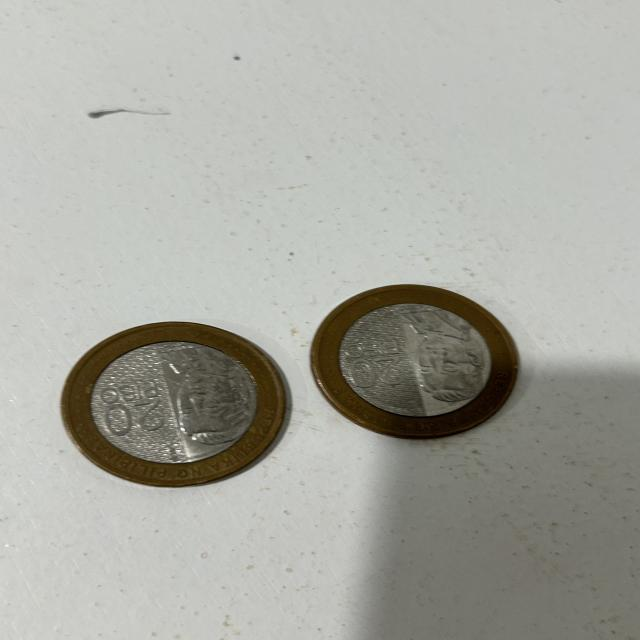20_New_Front: (98, 380, 178, 438), (339, 337, 413, 398)
